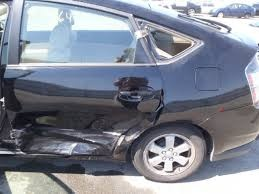Dent: (12, 113, 150, 161), (113, 75, 164, 110)
Scratch: (197, 114, 217, 127)
